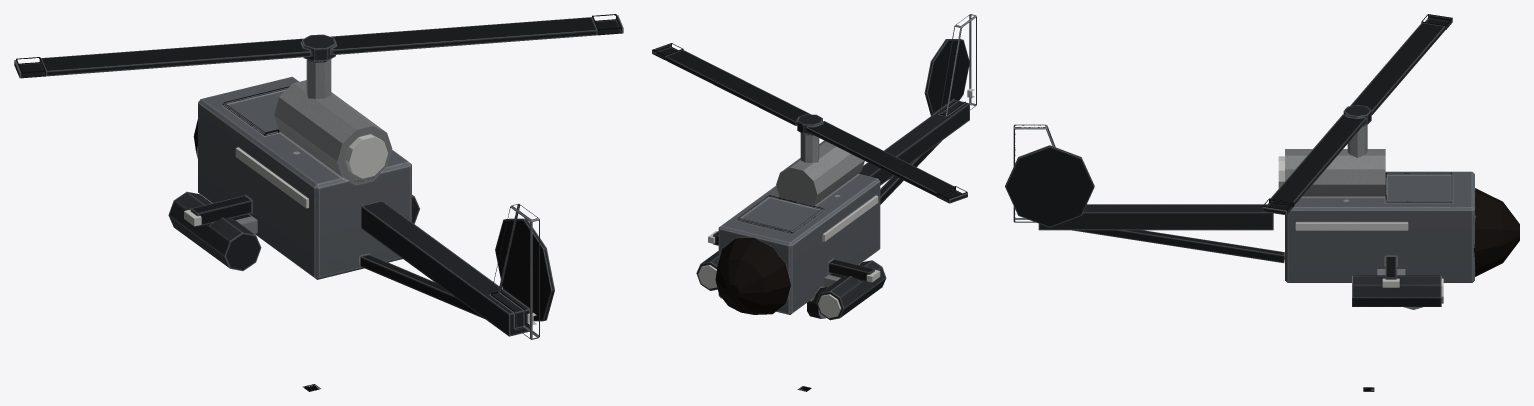
The model's file is chs_wasp.fbx.
3 views of the same model, side by side, from view 1: azimuth 30°, elevation 25°; view 2: azimuth 150°, elevation 25°; view 3: azimuth 270°, elevation 25° (orthographic). The views are drawn at different scales.
Visible parts, largest first — view 1: base_bar, rotor_bar, pylon_bar, base_glow_running_bar; view 2: base_bar, rotor_bar, pylon_bar, base_glow_running_bar, pylon_glow_weapon_bar; view 3: base_bar, rotor_bar, pylon_bar, base_glow_running_bar.
Boxes of the visible parts, x1=… form: base_bar: x1=190, y1=59, x2=554, y2=339; rotor_bar: x1=14, y1=14, x2=623, y2=78; pylon_bar: x1=168, y1=191, x2=419, y2=270; base_glow_running_bar: x1=184, y1=134, x2=536, y2=324; base_bar: x1=713, y1=14, x2=976, y2=318; rotor_bar: x1=652, y1=43, x2=967, y2=203; pylon_bar: x1=696, y1=251, x2=886, y2=320; base_glow_running_bar: x1=708, y1=88, x2=974, y2=282; pylon_glow_weapon_bar: x1=698, y1=265, x2=840, y2=317; base_bar: x1=1005, y1=124, x2=1519, y2=309; rotor_bar: x1=1262, y1=14, x2=1452, y2=215; pylon_bar: x1=1352, y1=269, x2=1441, y2=306; base_glow_running_bar: x1=1278, y1=156, x2=1407, y2=287.
Size of the model in its own units: 833 by 550 by 920.
Materials: 2 (2 with a texture image).
